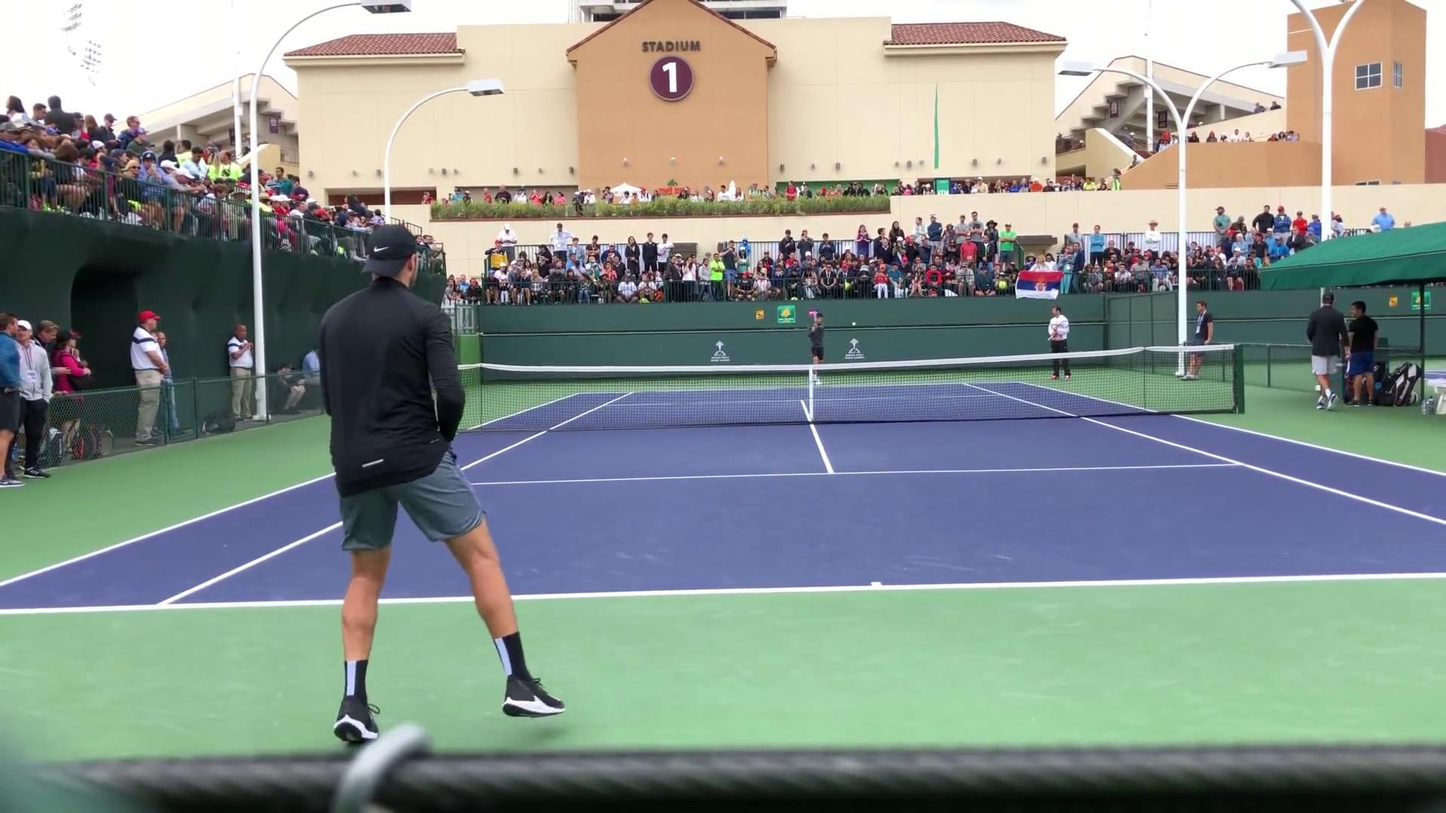ball: (850, 321, 857, 326)
